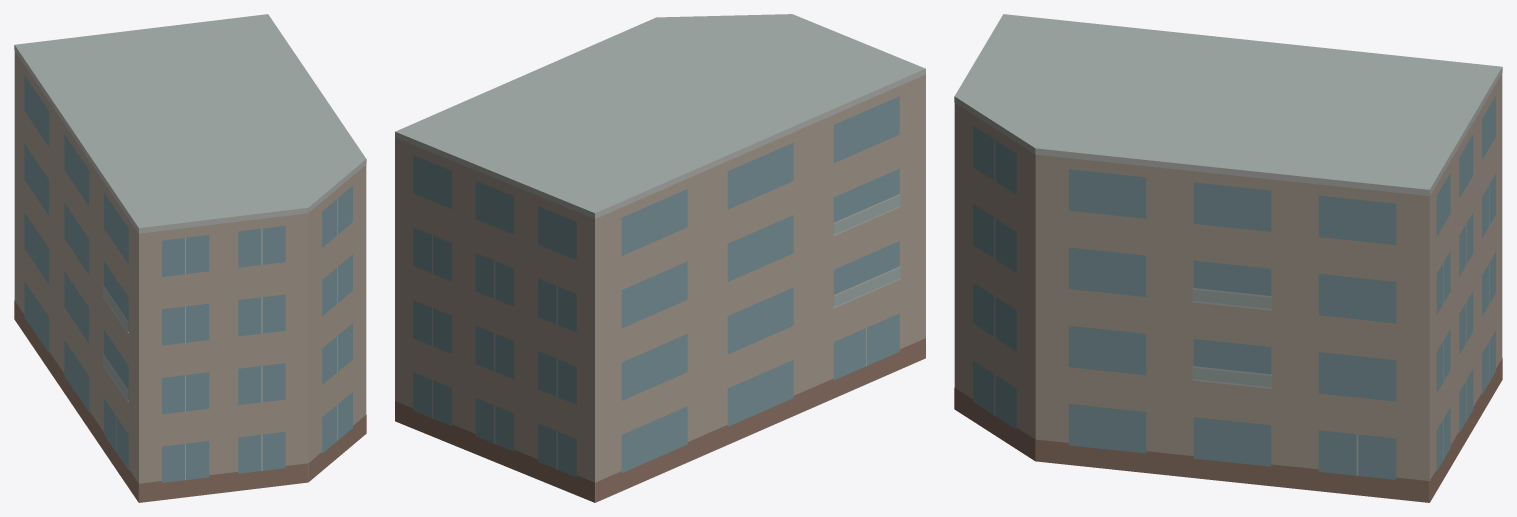
File: residential-88db7b47-68c0-4f6a-9c25-5a8756a0476e.glb
3 views of the same model, side by side, from view 1: azimuth 30°, elevation 25°; view 2: azimuth 150°, elevation 25°; view 3: azimuth 270°, elevation 25° (orthographic). The views are drawn at different scales.
Visible parts, largest first — view 1: residential-88db7b47-68c0-4f6a-9c25-5a8756a0476e.tmp; view 2: residential-88db7b47-68c0-4f6a-9c25-5a8756a0476e.tmp; view 3: residential-88db7b47-68c0-4f6a-9c25-5a8756a0476e.tmp.
Part boxes in pixels (bbox=[...]): residential-88db7b47-68c0-4f6a-9c25-5a8756a0476e.tmp: bbox=[14, 14, 366, 502]; residential-88db7b47-68c0-4f6a-9c25-5a8756a0476e.tmp: bbox=[395, 14, 925, 502]; residential-88db7b47-68c0-4f6a-9c25-5a8756a0476e.tmp: bbox=[954, 14, 1502, 502].
Size of the model in its own units: 14.72 by 12.2 by 19.37.
